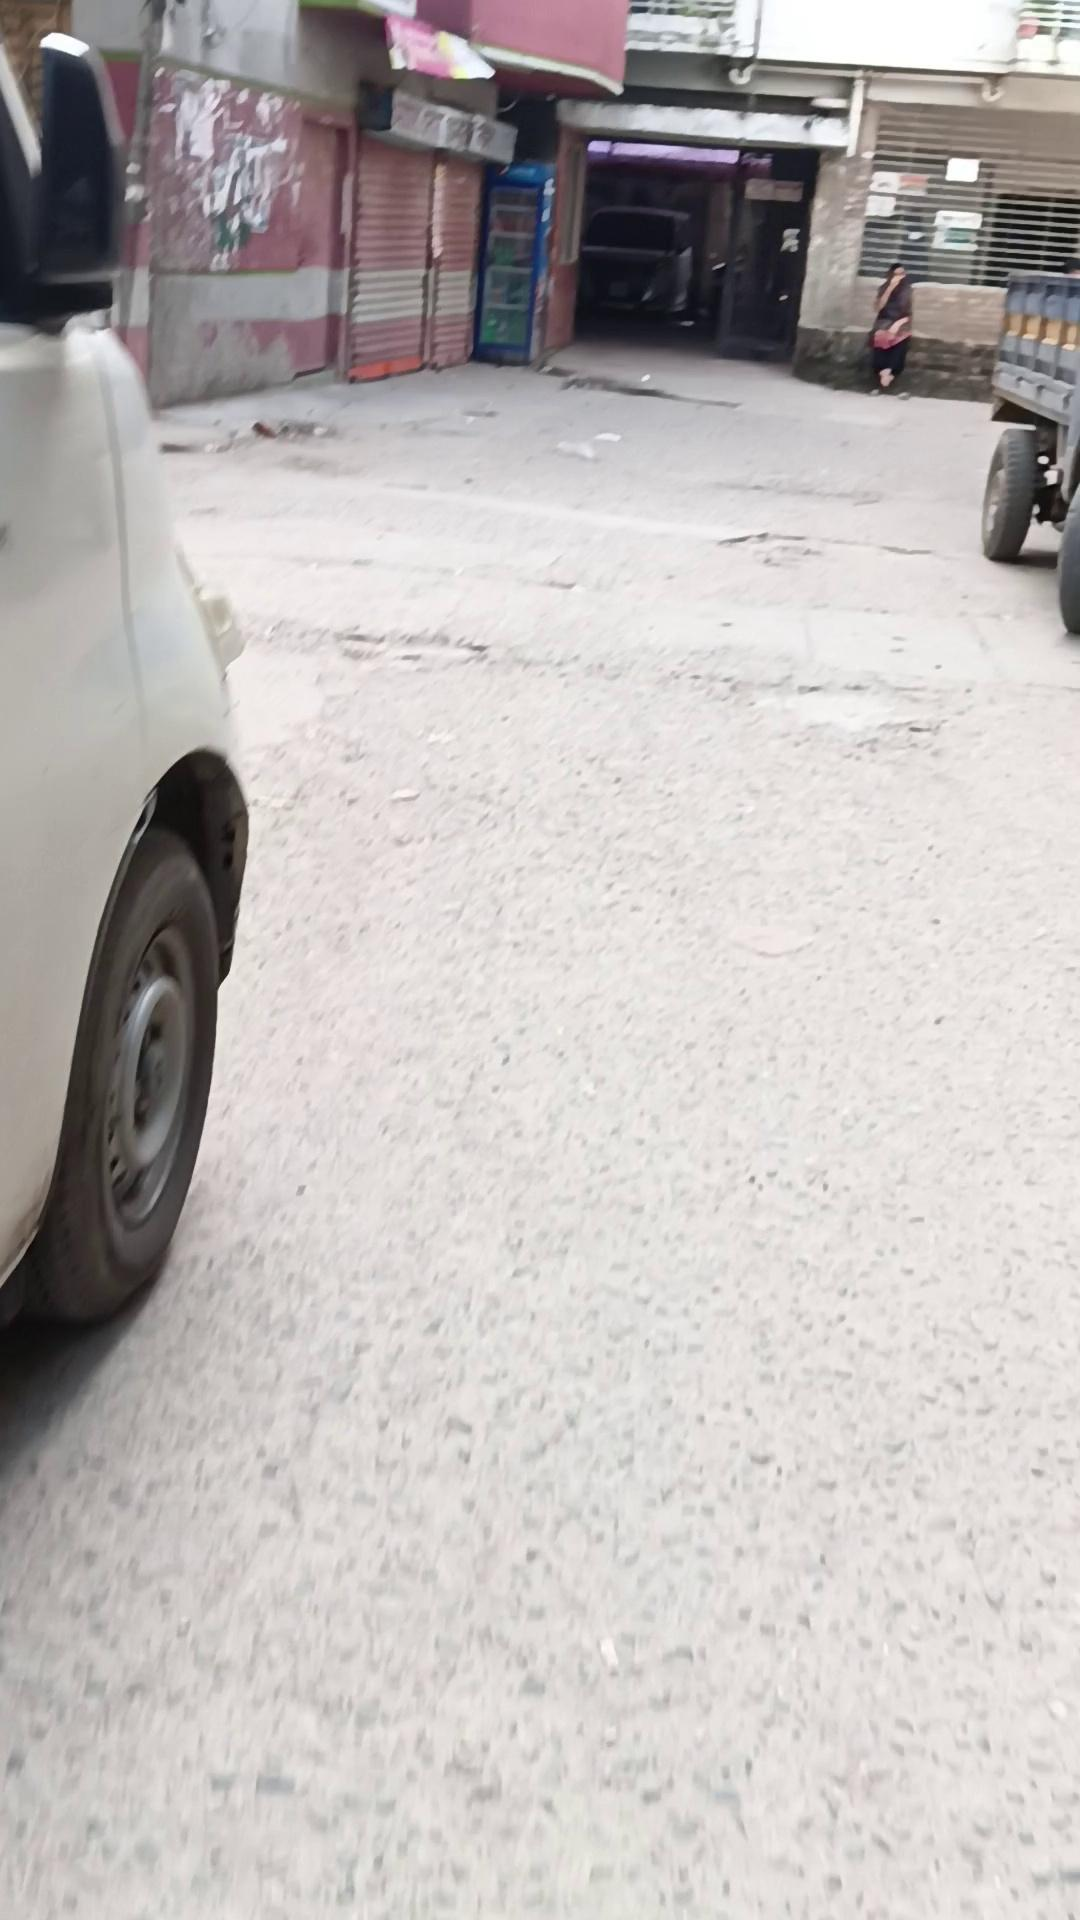Car: (0, 26, 251, 1335), (578, 203, 694, 320)
Muddy road: (866, 262, 913, 396)
Traffic-sign: (978, 266, 1079, 636)
